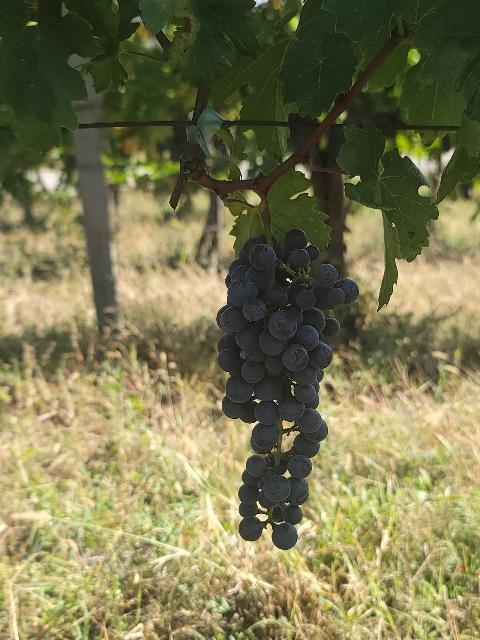grapes: (216, 229, 359, 550)
